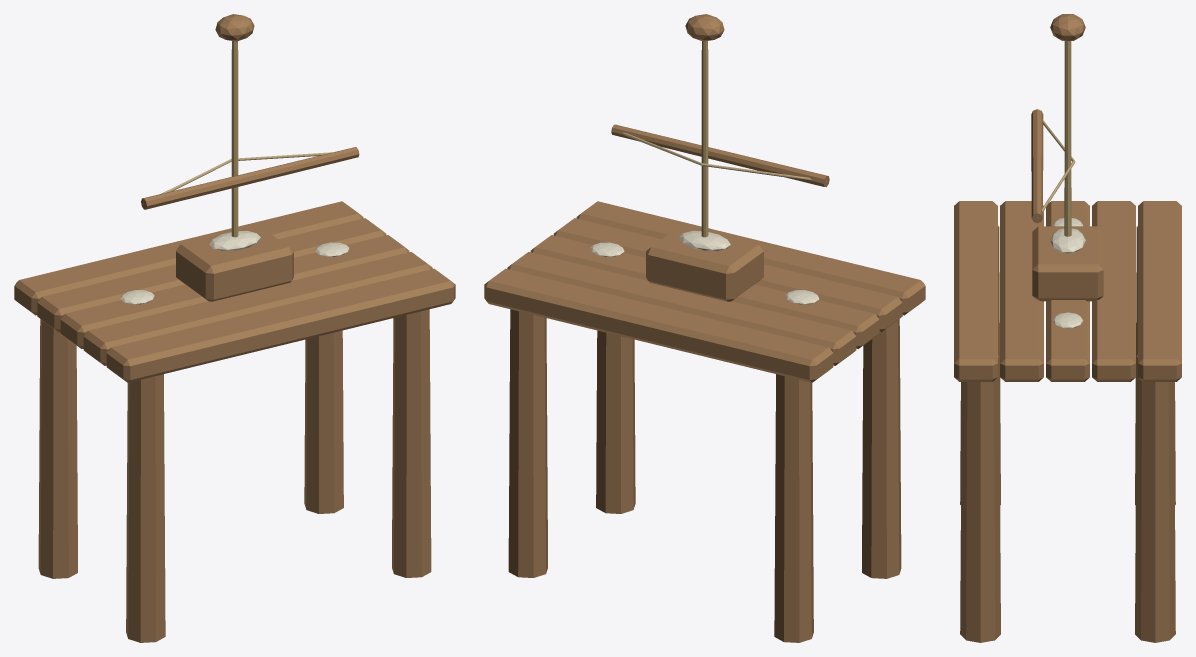
3 renders of one model, left to right at view 1: azimuth 30°, elevation 25°; view 2: azimuth 150°, elevation 25°; view 3: azimuth 270°, elevation 25°, orthographic.
Parts seen in each view (by area): view 1: CE-054 Shell-ornament bow-drilling bench batched; view 2: CE-054 Shell-ornament bow-drilling bench batched; view 3: CE-054 Shell-ornament bow-drilling bench batched.
Part boxes in pixels (x1,y1,x2,y2): CE-054 Shell-ornament bow-drilling bench batched: (14, 14, 455, 642); CE-054 Shell-ornament bow-drilling bench batched: (484, 14, 925, 642); CE-054 Shell-ornament bow-drilling bench batched: (954, 14, 1181, 642).
Size of the model in its own units: 0.75 by 1.19 by 0.4455.
